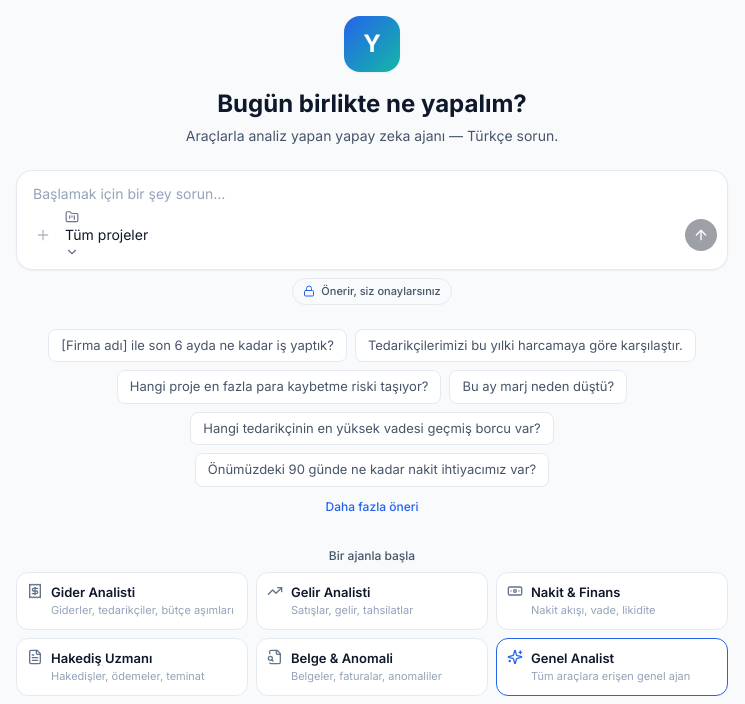
Test case: AIAssistantPage agent steps (Cowork-style collapse) › shows steps live (expanded) while running, then collapses on completion
The image size is (745, 704).
Later steps or results of the test are not shown.
In the text box: (372, 188) [17,171,727,206], type "Akçansa ne kadar?"
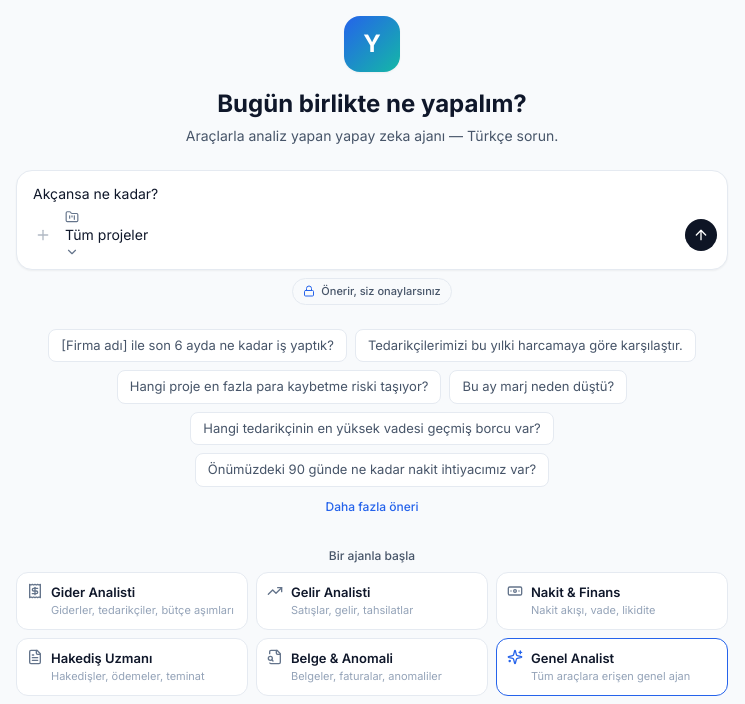
Click the button named "Gönder": (701, 234) [685,218,717,250]
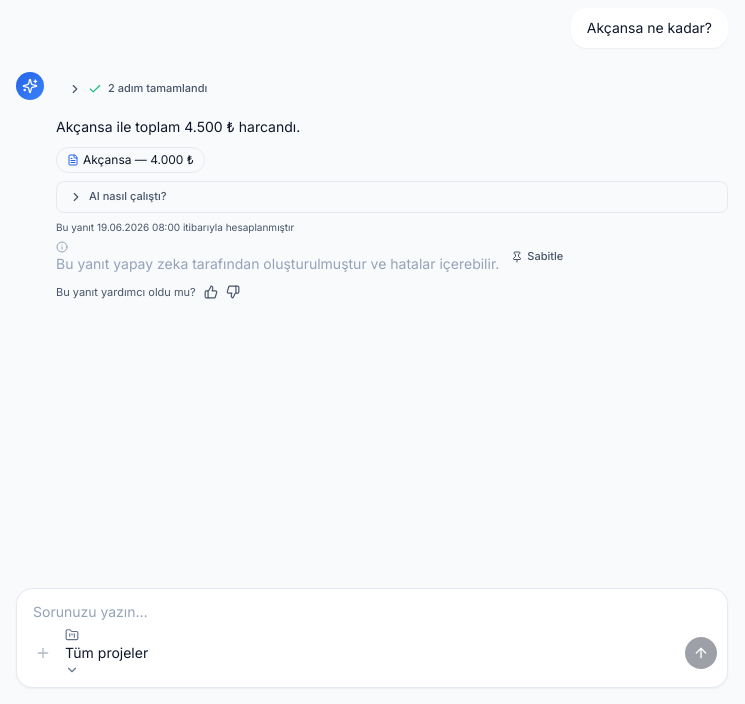
expect the text "2 adım tamamlandı" is shown: met, box [108,81,207,95]
